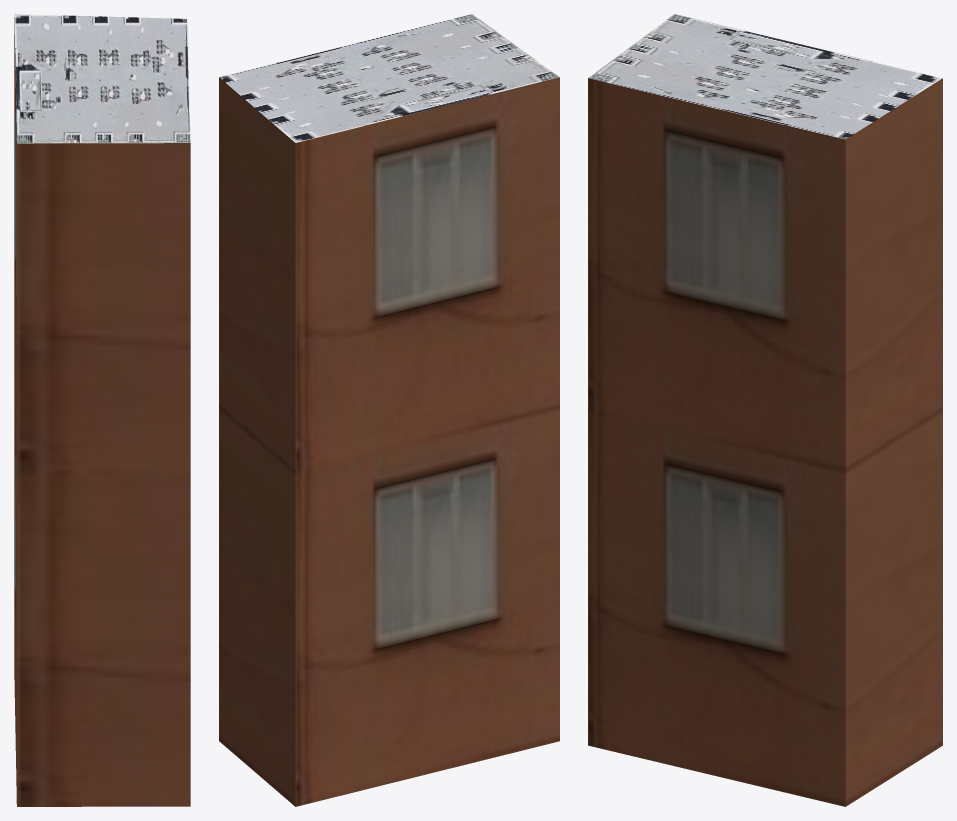
The model's file is ResTex__2435.fbx.
3 views of the same model, side by side, from view 1: azimuth 30°, elevation 25°; view 2: azimuth 150°, elevation 25°; view 3: azimuth 270°, elevation 25° (orthographic).
Parts seen in each view (by area): view 1: CityEngineMaterial_20_m, CityEngineMaterial_m; view 2: CityEngineMaterial_20_m, CityEngineMaterial_m; view 3: CityEngineMaterial_20_m, CityEngineMaterial_m.
Part boxes in pixels (x1,y1,x2,y2): CityEngineMaterial_20_m: [14, 17, 190, 806]; CityEngineMaterial_m: [14, 14, 190, 143]; CityEngineMaterial_20_m: [219, 77, 559, 806]; CityEngineMaterial_m: [219, 14, 559, 142]; CityEngineMaterial_20_m: [588, 78, 942, 806]; CityEngineMaterial_m: [588, 14, 942, 139].
Size of the model in its own units: 2.42 by 6 by 2.89.
2 materials, 2 textured.
